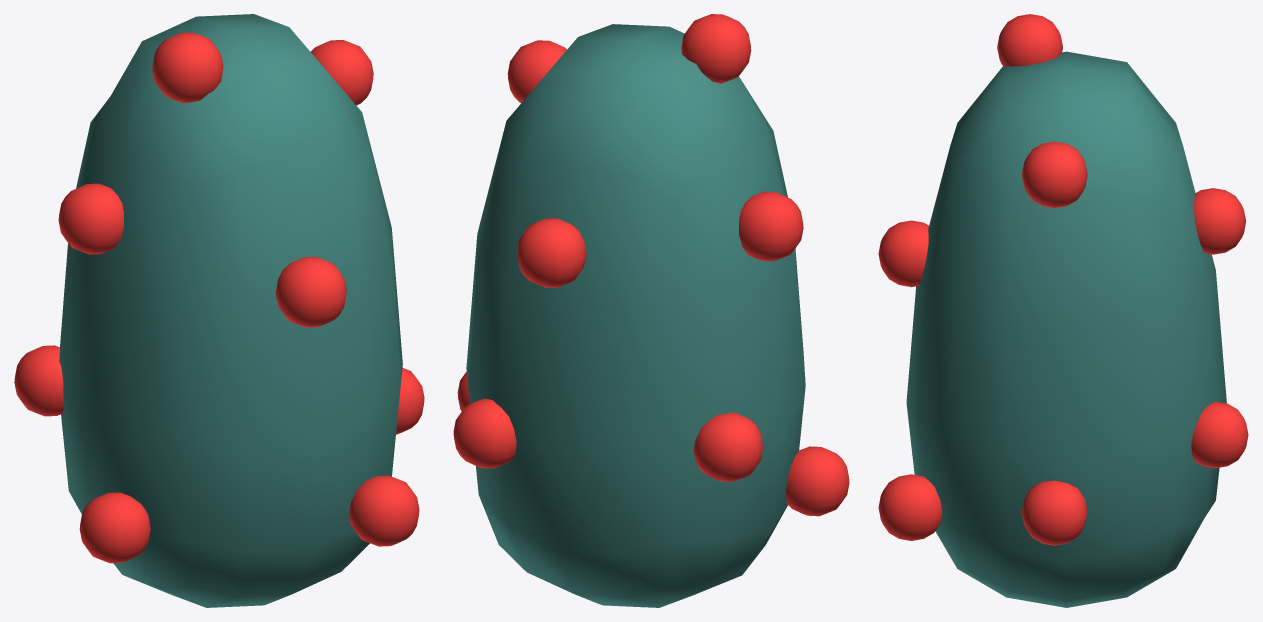
The model's file is bush2.fbx.
3 renders of one model, left to right at view 1: azimuth 30°, elevation 25°; view 2: azimuth 150°, elevation 25°; view 3: azimuth 270°, elevation 25°, orthographic. The views are drawn at different scales.
Parts seen in each view (by area): view 1: bush2; view 2: bush2; view 3: bush2.
Boxes of the visible parts, <box> form: bush2: <box>14,14,424,607</box>; bush2: <box>453,14,849,607</box>; bush2: <box>878,14,1248,607</box>.
Bounding box in the file's own units: 233 × 359 × 221.
